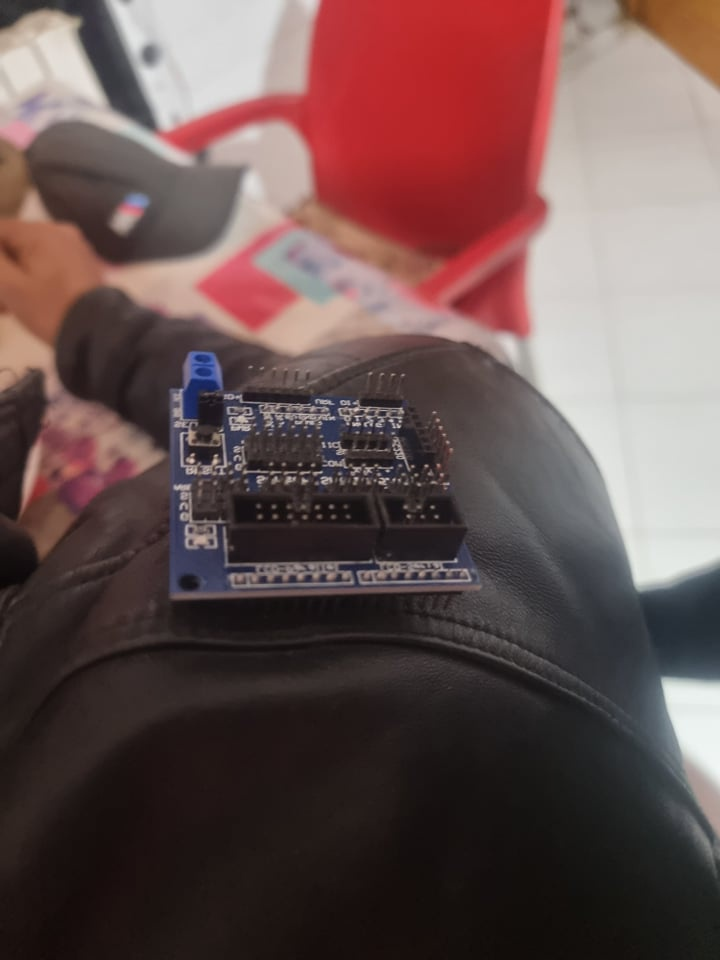5V EXPANSION: (165, 350, 480, 601)
